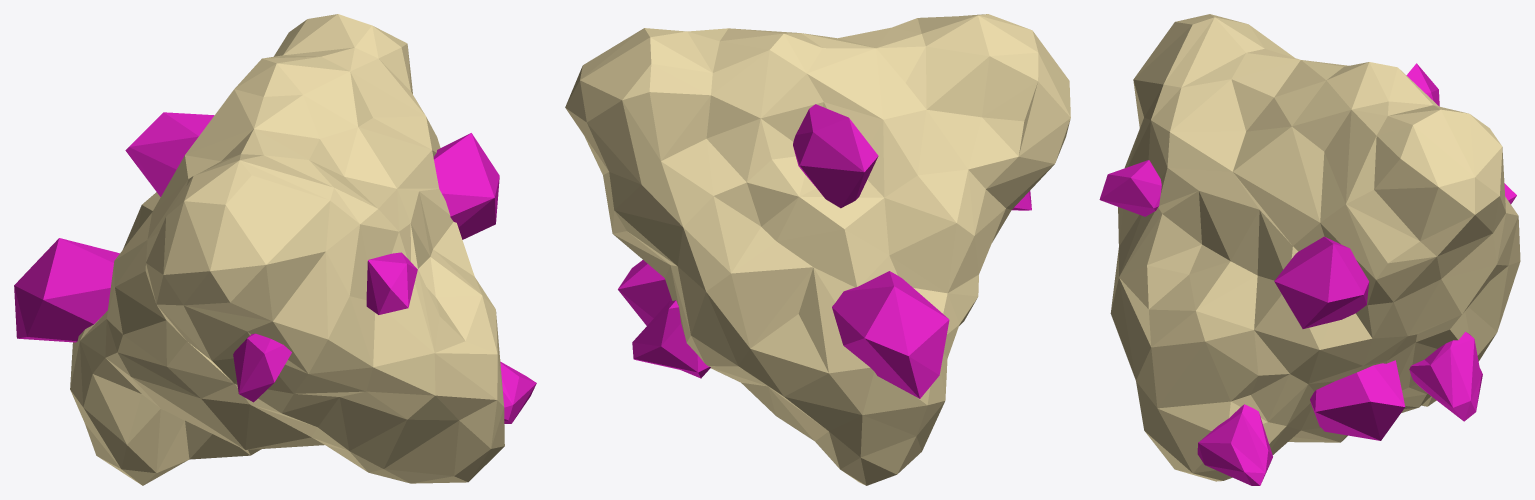
The model's file is CrystalOre (48).fbx.
3 views of the same model, side by side, from view 1: azimuth 30°, elevation 25°; view 2: azimuth 150°, elevation 25°; view 3: azimuth 270°, elevation 25° (orthographic).
Parts seen in each view (by area): view 1: Asteroid268; view 2: Asteroid268; view 3: Asteroid268.
Boxes of the visible parts, bbox=[...] form: Asteroid268: bbox=[14, 14, 536, 485]; Asteroid268: bbox=[565, 14, 1070, 485]; Asteroid268: bbox=[1099, 14, 1520, 485].
Bounding box in the file's own units: 399 × 380 × 366.
